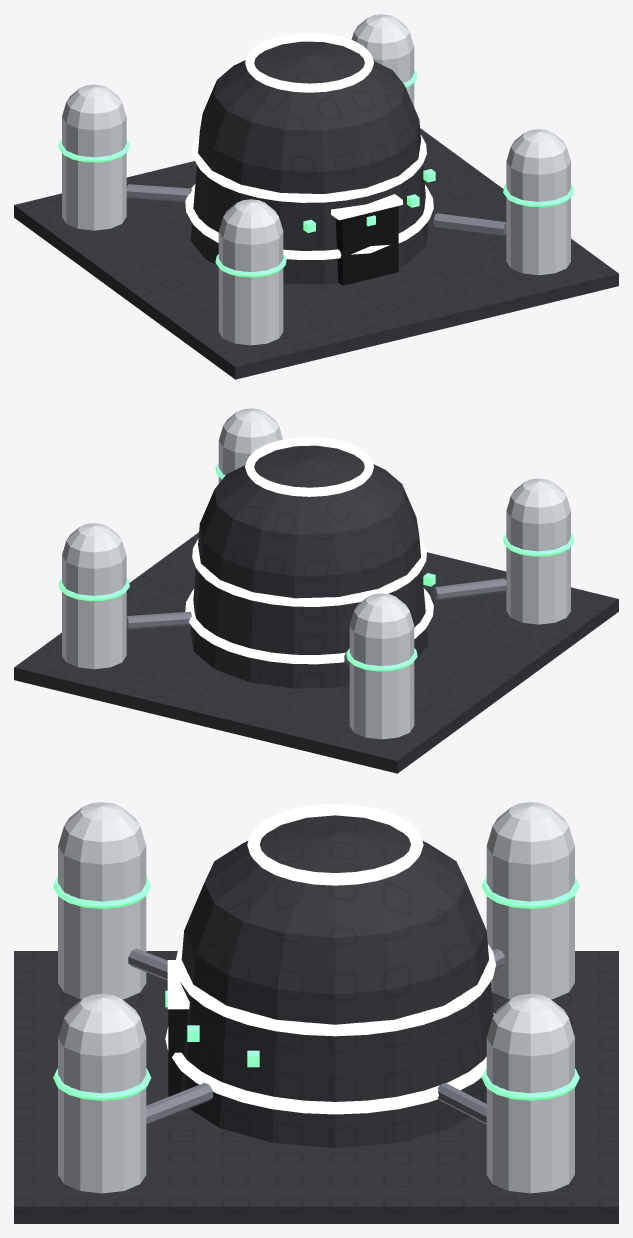
Rendered from Usine_Fusion_Nucleaire.glb.
The picture shows the model from 3 angles, top to bottom: view 1: azimuth 30°, elevation 25°; view 2: azimuth 150°, elevation 25°; view 3: azimuth 270°, elevation 25°; orthographic projection. The views are drawn at different scales.
Visible parts, largest first — view 1: Usine_Fusion_Nucleaire; view 2: Usine_Fusion_Nucleaire; view 3: Usine_Fusion_Nucleaire.
Part boxes in pixels (left/top/right/bottom): Usine_Fusion_Nucleaire: left=14, top=14, right=618, bottom=379; Usine_Fusion_Nucleaire: left=14, top=408, right=618, bottom=773; Usine_Fusion_Nucleaire: left=14, top=802, right=618, bottom=1223.
Bounding box in the file's own units: 9.6 × 4.58 × 9.6.
6 materials, 1 textured.
